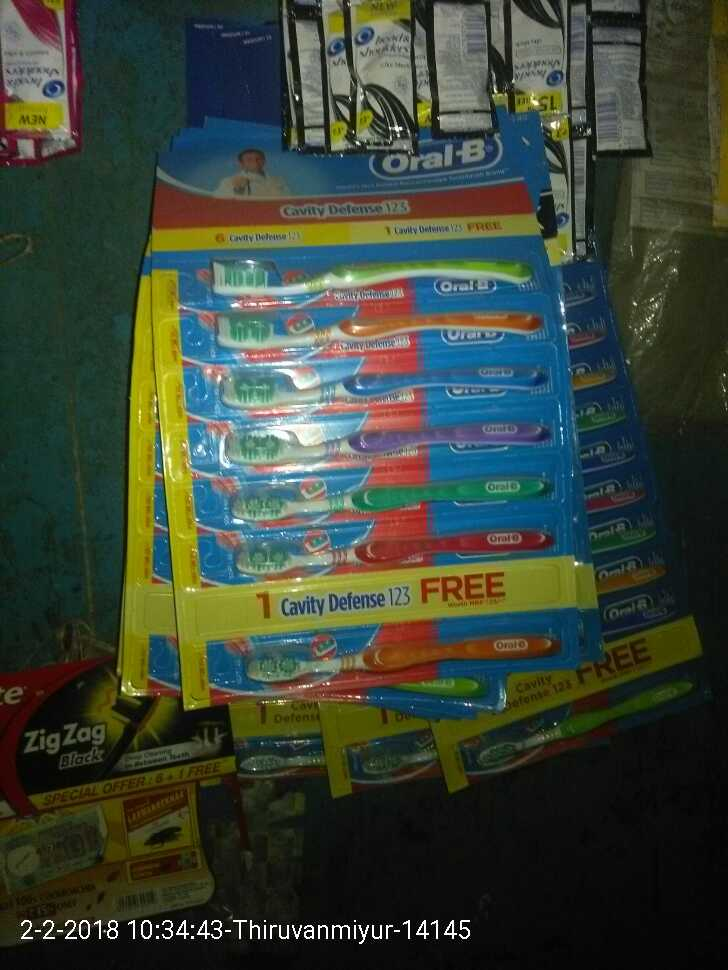beauty: (277, 1, 667, 158)
pharmacy: (189, 307, 552, 357), (202, 365, 565, 415), (211, 420, 574, 470), (222, 470, 585, 520), (223, 537, 586, 587), (228, 633, 591, 683), (207, 241, 546, 294)
